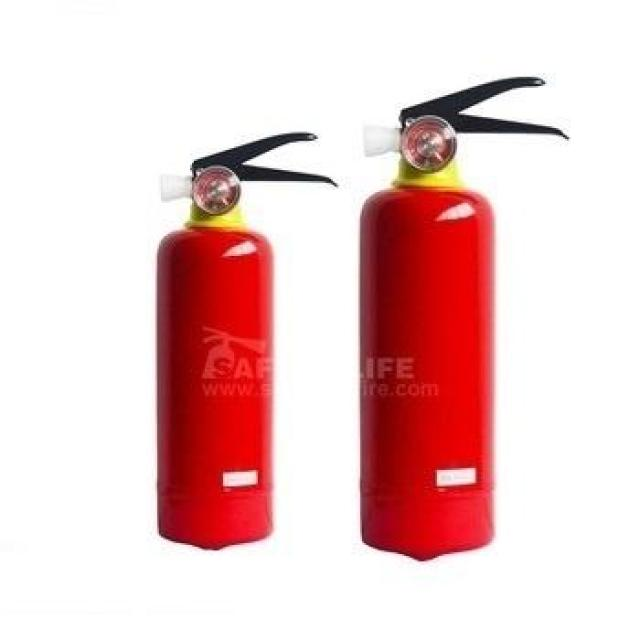fire_extinguisher: (348, 70, 574, 562), (149, 127, 339, 553)
